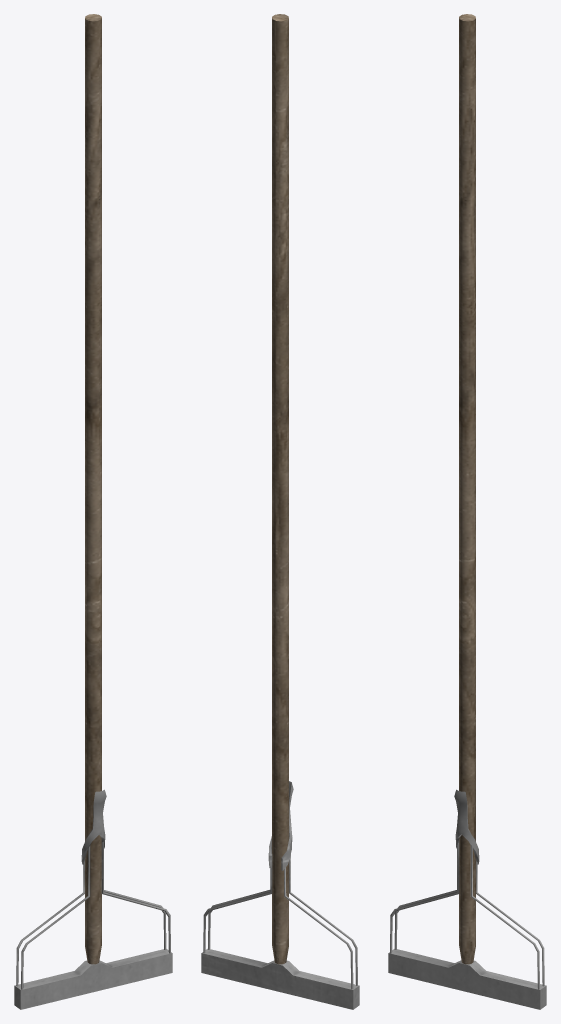
Rendered from Mop.fbx.
3 renders of one model, left to right at view 1: azimuth 30°, elevation 25°; view 2: azimuth 150°, elevation 25°; view 3: azimuth 330°, elevation 25°, orthographic.
Parts seen in each view (by area): view 1: Mop; view 2: Mop; view 3: Mop.
Part boxes in pixels (x1,y1,x2,y2): Mop: (14,14,172,1009); Mop: (201,14,359,1009); Mop: (388,14,546,1009).
Size of the model in its own units: 20 by 122 by 2.84.
